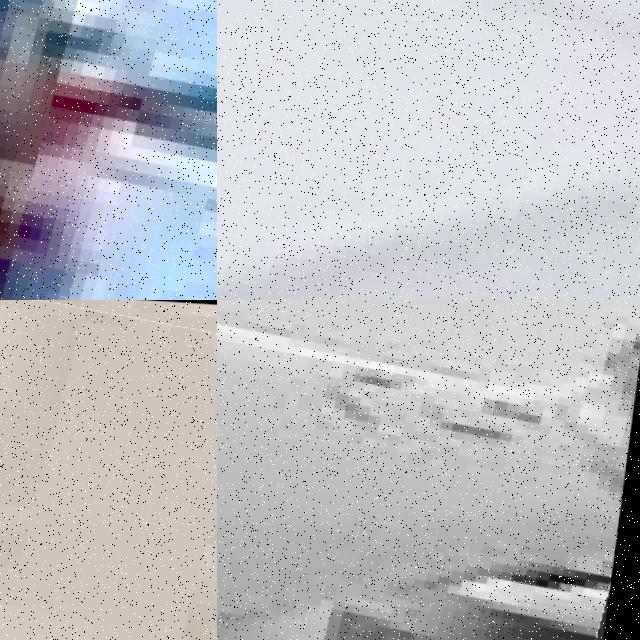0: (0, 300, 217, 640), (0, 0, 217, 300)
drone: (217, 300, 640, 640), (217, 0, 640, 300)
